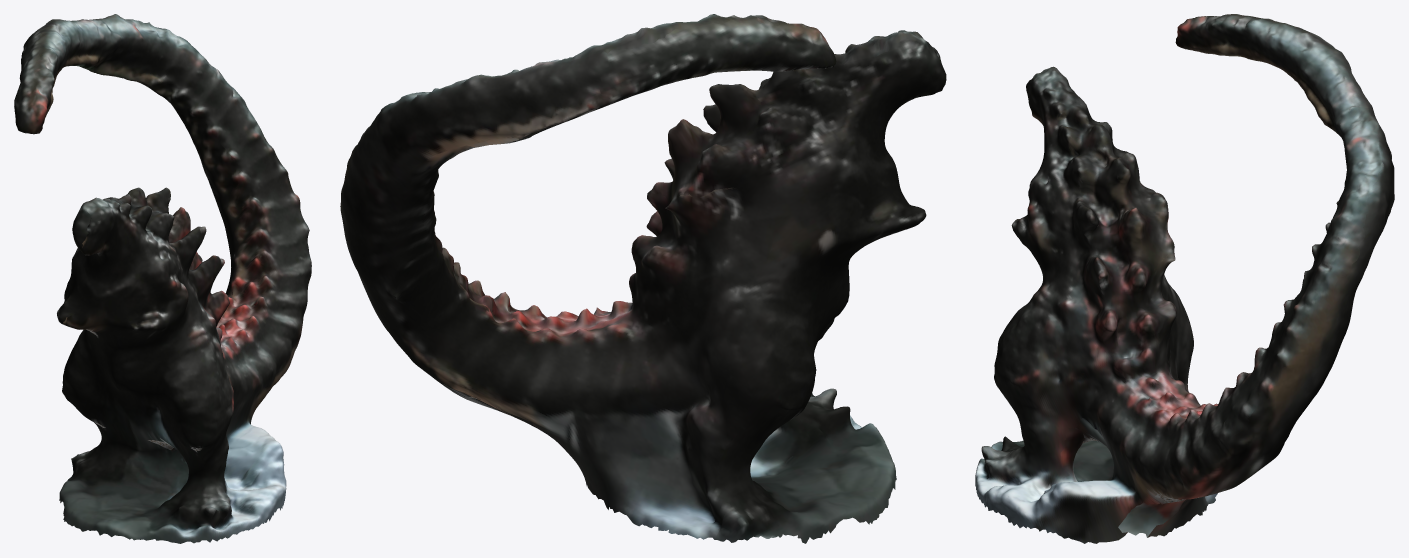
File: sgzl3.obj
The picture shows the model from 3 angles, left to right: view 1: azimuth 30°, elevation 25°; view 2: azimuth 150°, elevation 25°; view 3: azimuth 270°, elevation 25°; orthographic projection. The views are drawn at different scales.
Parts seen in each view (by area): view 1: sgzl3.obj; view 2: sgzl3.obj; view 3: sgzl3.obj.
Part boxes in pixels (left/top/right/bottom): sgzl3.obj: left=14, top=14, right=311, bottom=543; sgzl3.obj: left=340, top=14, right=946, bottom=543; sgzl3.obj: left=975, top=14, right=1394, bottom=543.
Bounding box in the file's own units: 109 × 130 × 110.
Materials: 2 (2 with a texture image).
